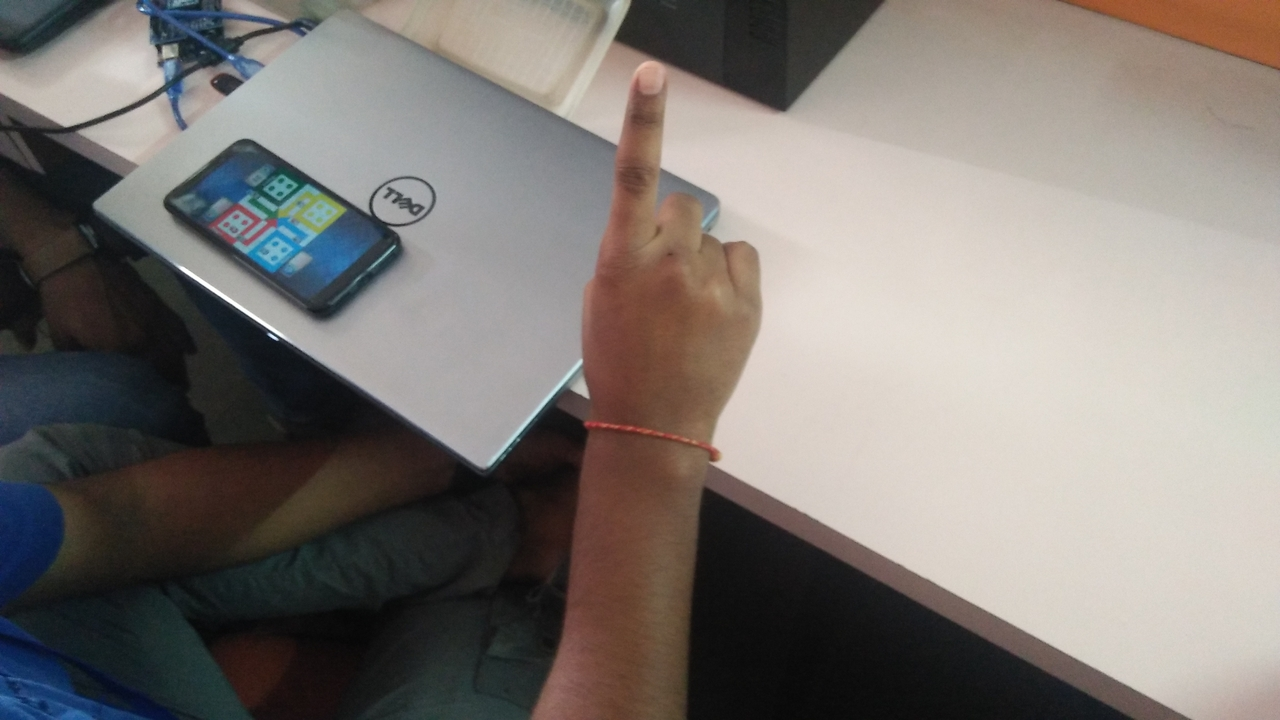fingertip: (618, 48, 676, 98)
